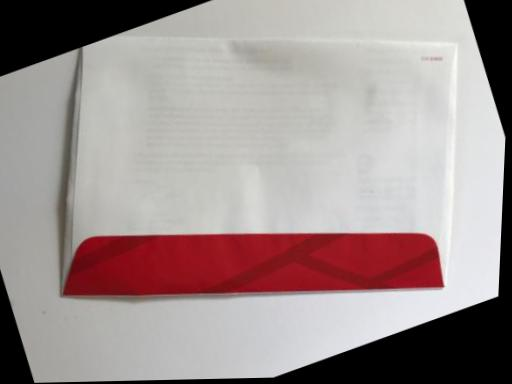paper: (0, 0, 503, 381)
